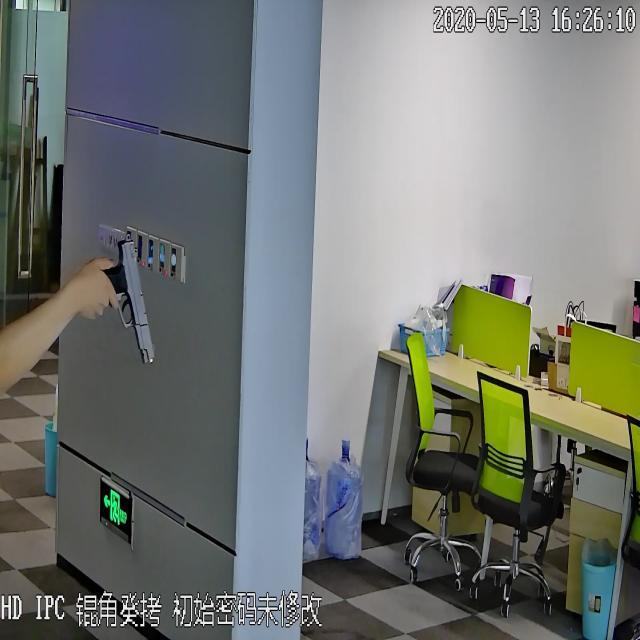gun: (89, 231, 155, 367)
